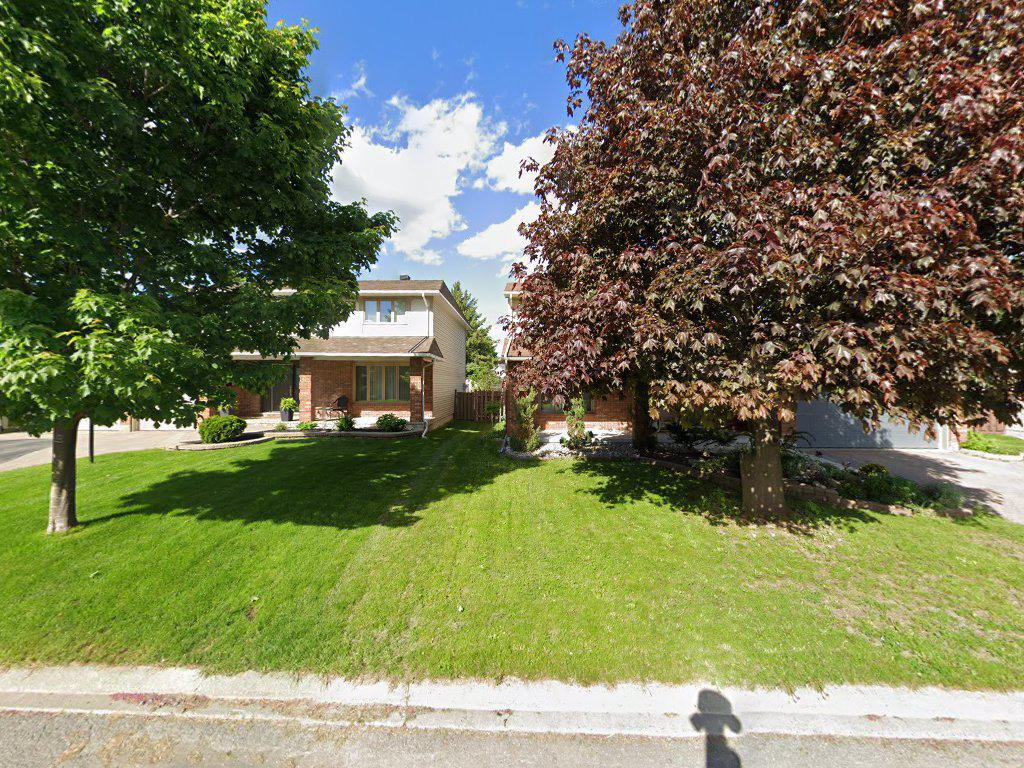trunk: (742, 410, 796, 540), (45, 399, 86, 542)
